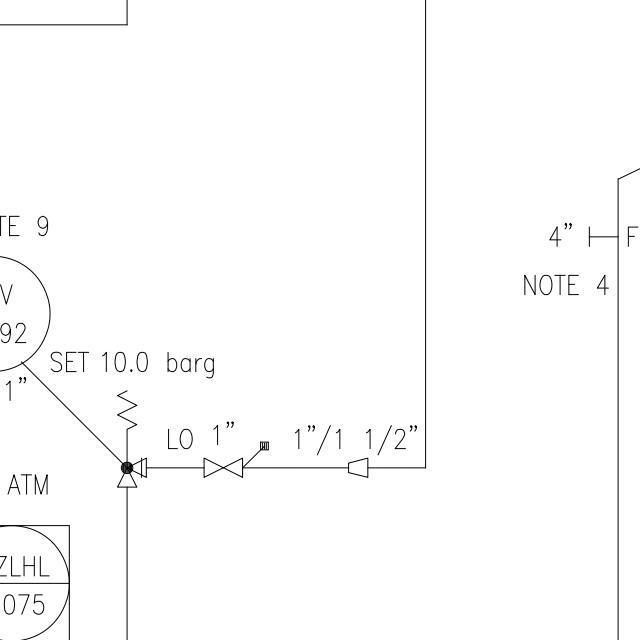GV: (200, 453, 247, 478)
RPV: (111, 380, 153, 496)
SP: (343, 454, 377, 479)
